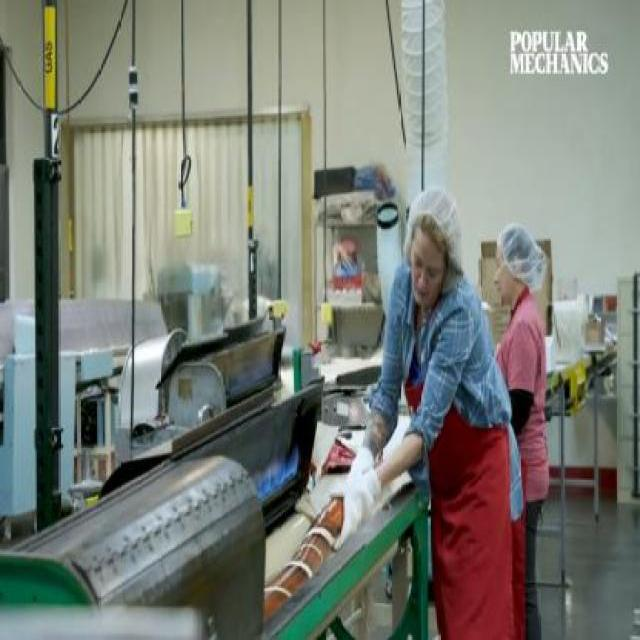hairnet: (409, 186, 460, 250), (498, 219, 546, 281)
